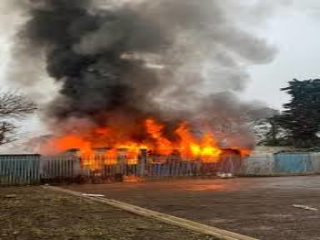fire: (45, 121, 225, 172)
smoke: (24, 7, 174, 115)
